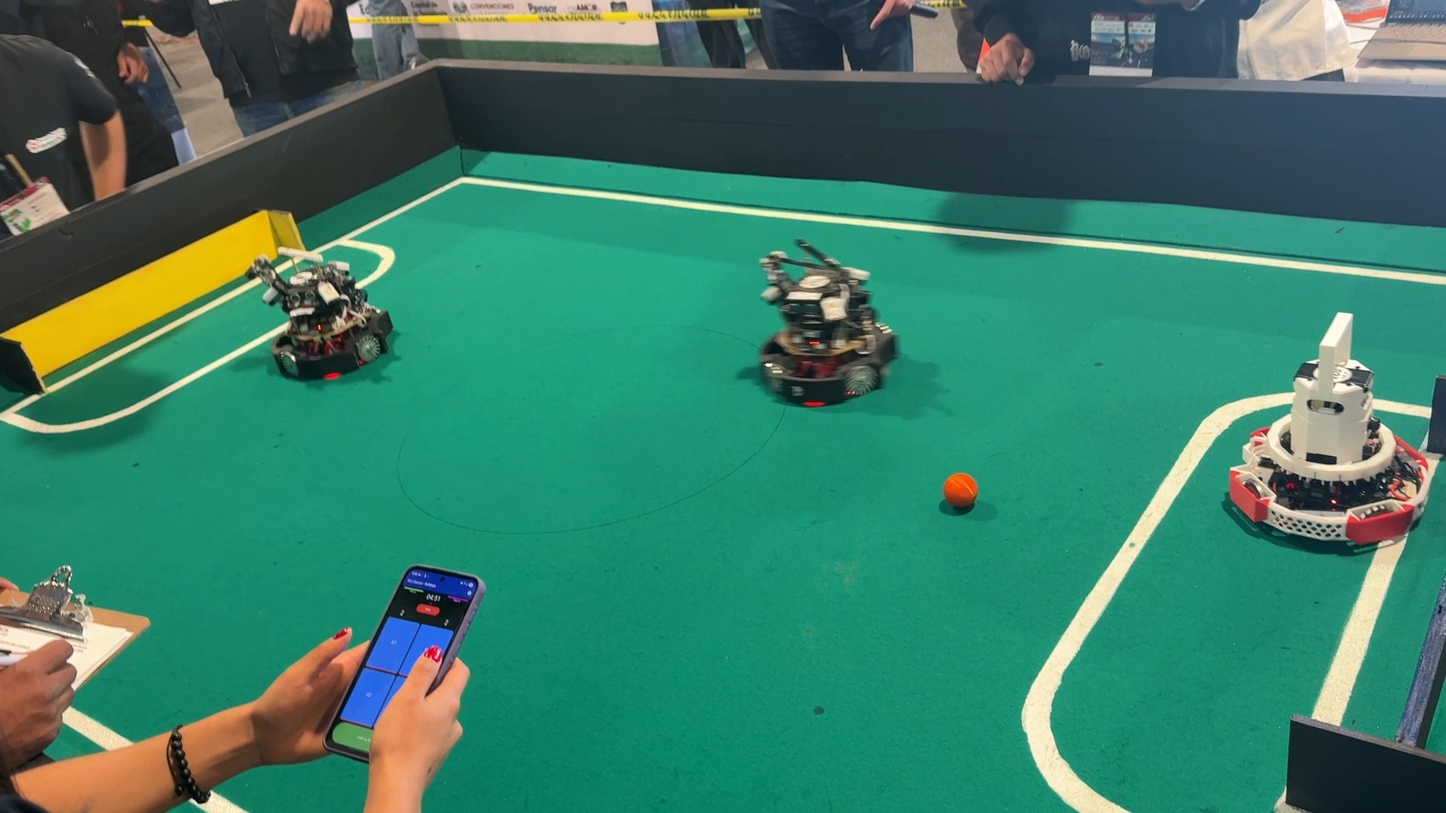Robot: (1215, 297, 1430, 570), (229, 208, 415, 404), (734, 238, 909, 425)
pelota: (938, 470, 985, 520)
